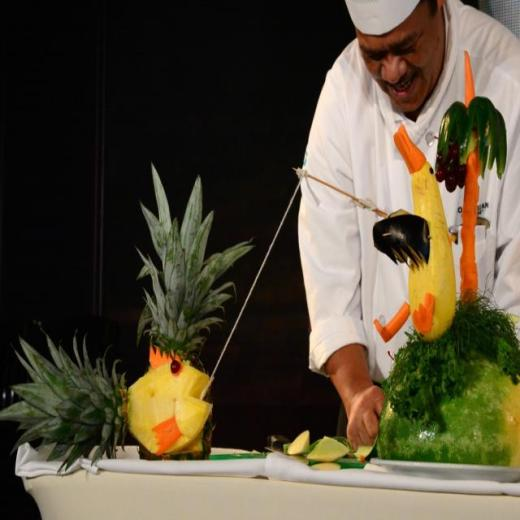Mango: (135, 160, 258, 458), (0, 326, 213, 474)
